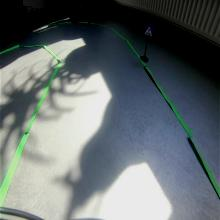crosswalk: (143, 22, 154, 39)
